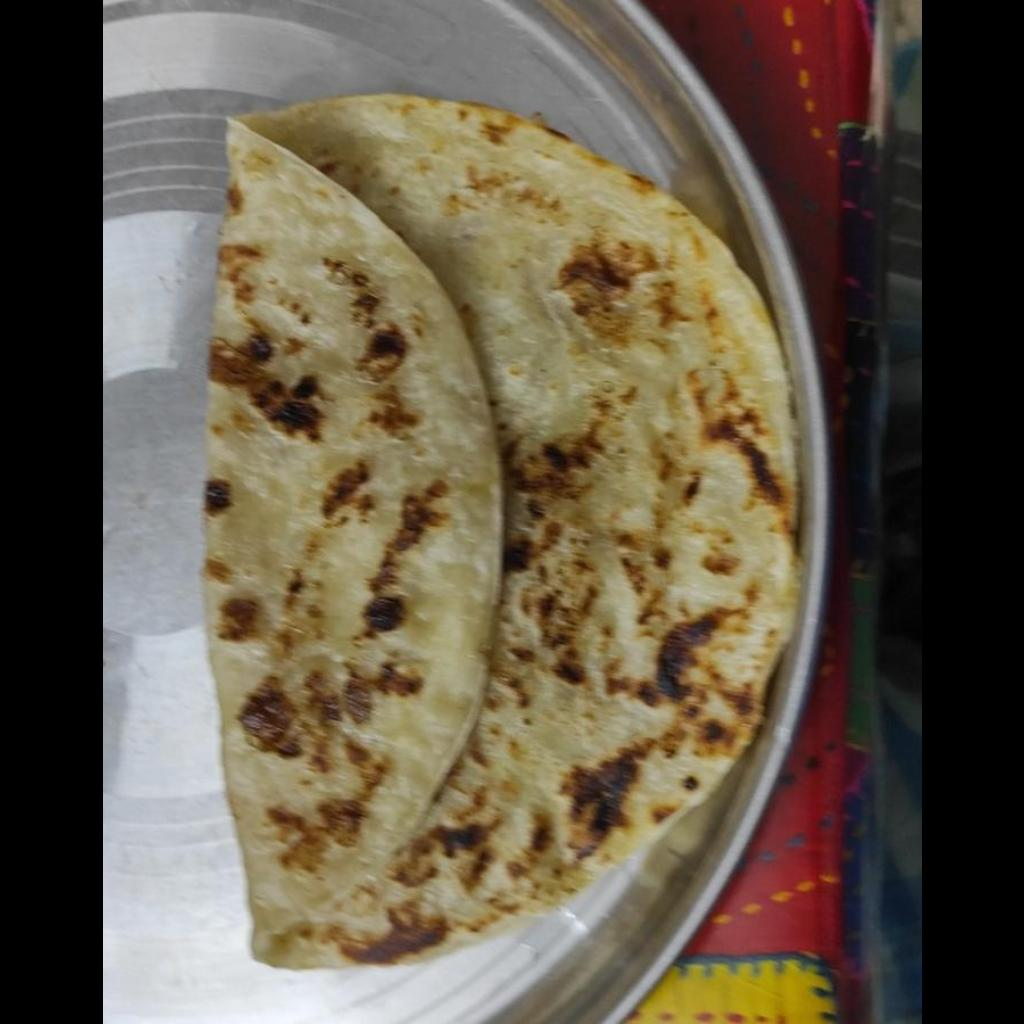ruti: (203, 90, 799, 973)
